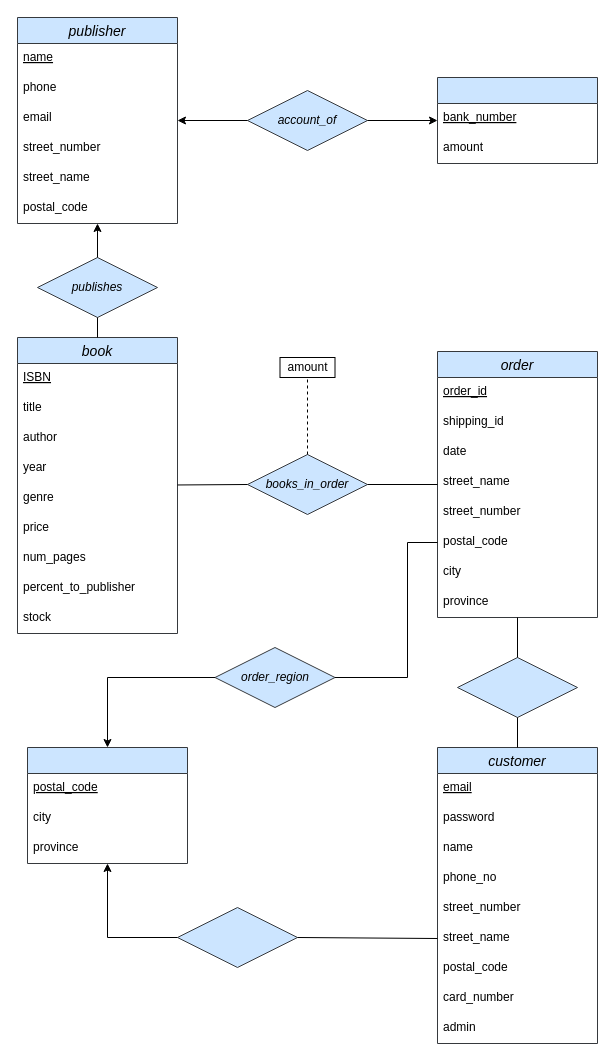
Some shapes in this 615 by 1064 pixel diagram are drawn without their labels. Each missing label, with the box of its shape:
bank_account: (436, 76, 598, 164)
customer_region: (176, 906, 298, 968)
order_of: (456, 656, 578, 718)
region: (26, 746, 188, 864)
